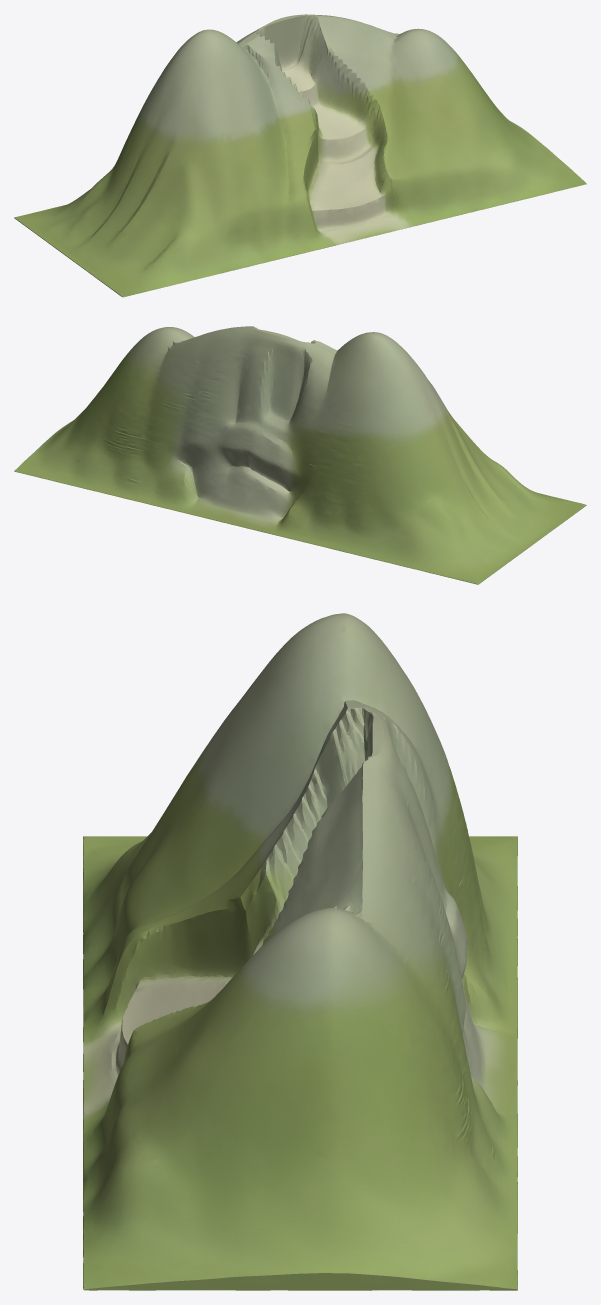
Rendered from source.glb.
3 renders of one model, top to bottom at view 1: azimuth 30°, elevation 25°; view 2: azimuth 150°, elevation 25°; view 3: azimuth 270°, elevation 25°, orthographic. The views are drawn at different scales.
Visible parts, largest first — view 1: model; view 2: model; view 3: model.
Boxes of the visible parts, <box> form: model: <box>14,14,586,297</box>; model: <box>14,326,586,584</box>; model: <box>83,613,517,1290</box>.
Bounding box in the file's own units: 1.9 × 0.7153 × 0.7718.
1 material, 1 textured.
